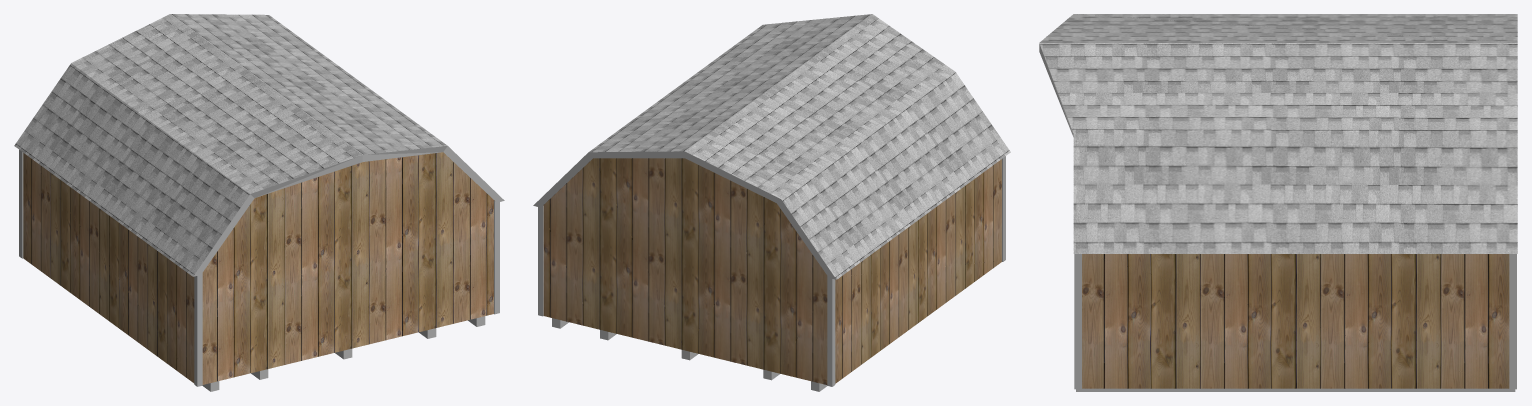
The model's file is Mini Barn Sheds_12x12.obj.
3 renders of one model, left to right at view 1: azimuth 30°, elevation 25°; view 2: azimuth 150°, elevation 25°; view 3: azimuth 270°, elevation 25°, orthographic. The views are drawn at different scales.
Visible parts, largest first — view 1: Shed, Roof, Sides, Trim, Floor; view 2: Shed, Roof, Sides, Trim, Floor; view 3: Roof, Shed, Trim, Floor.
Boxes of the visible parts, bbox=[...] form: Shed: bbox=[23, 152, 494, 384]; Roof: bbox=[14, 14, 447, 276]; Sides: bbox=[193, 146, 504, 276]; Trim: bbox=[19, 150, 499, 386]; Floor: bbox=[202, 316, 485, 391]; Shed: bbox=[543, 158, 1001, 384]; Roof: bbox=[589, 14, 1010, 279]; Sides: bbox=[533, 151, 836, 279]; Trim: bbox=[538, 156, 1005, 386]; Floor: bbox=[552, 318, 827, 391]; Roof: bbox=[1039, 14, 1517, 253]; Shed: bbox=[1082, 254, 1509, 388]; Trim: bbox=[1074, 254, 1516, 389]; Floor: bbox=[1076, 388, 1515, 391].
Bounding box in the file's own units: 3.72 × 2.44 × 3.98.
